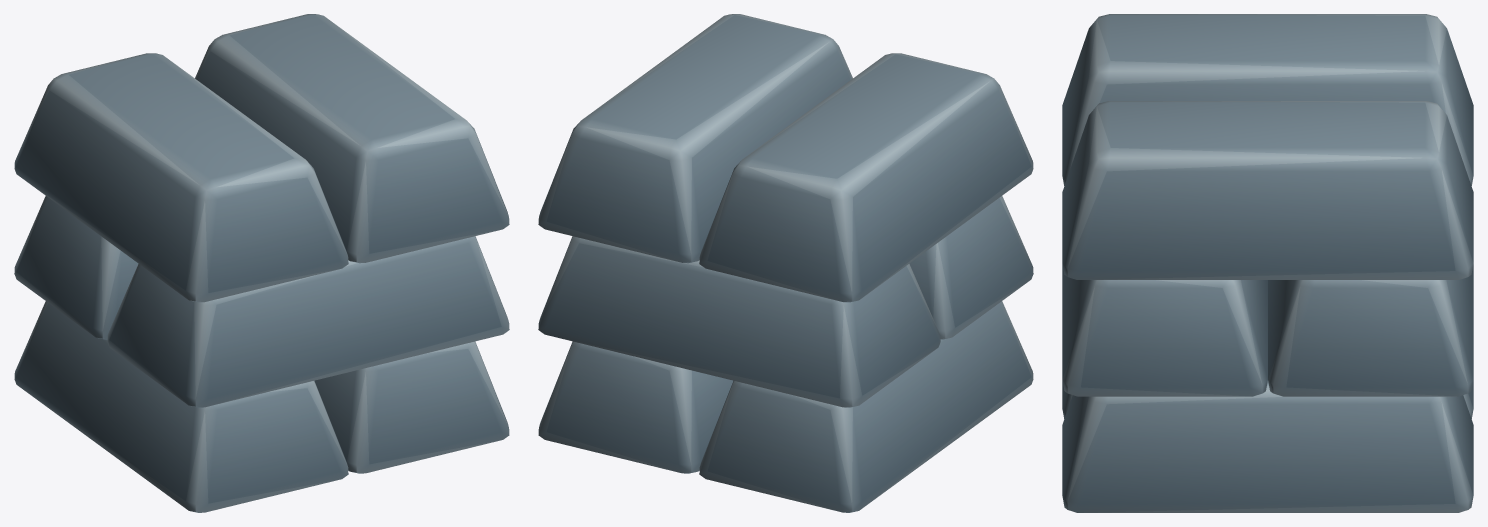
Rendered from Iron_Bars_Stack_Small.glb.
3 renders of one model, left to right at view 1: azimuth 30°, elevation 25°; view 2: azimuth 150°, elevation 25°; view 3: azimuth 270°, elevation 25°, orthographic. The views are drawn at different scales.
Visible parts, largest first — view 1: Iron_Bars_Stack_Small; view 2: Iron_Bars_Stack_Small; view 3: Iron_Bars_Stack_Small.
Part boxes in pixels (box(x1,y1,x2,y2)): Iron_Bars_Stack_Small: box(14, 14, 509, 512); Iron_Bars_Stack_Small: box(538, 14, 1033, 512); Iron_Bars_Stack_Small: box(1062, 14, 1473, 512).
Bounding box in the file's own units: 0.8 × 0.75 × 0.8.
Materials: 1 (1 with a texture image).
